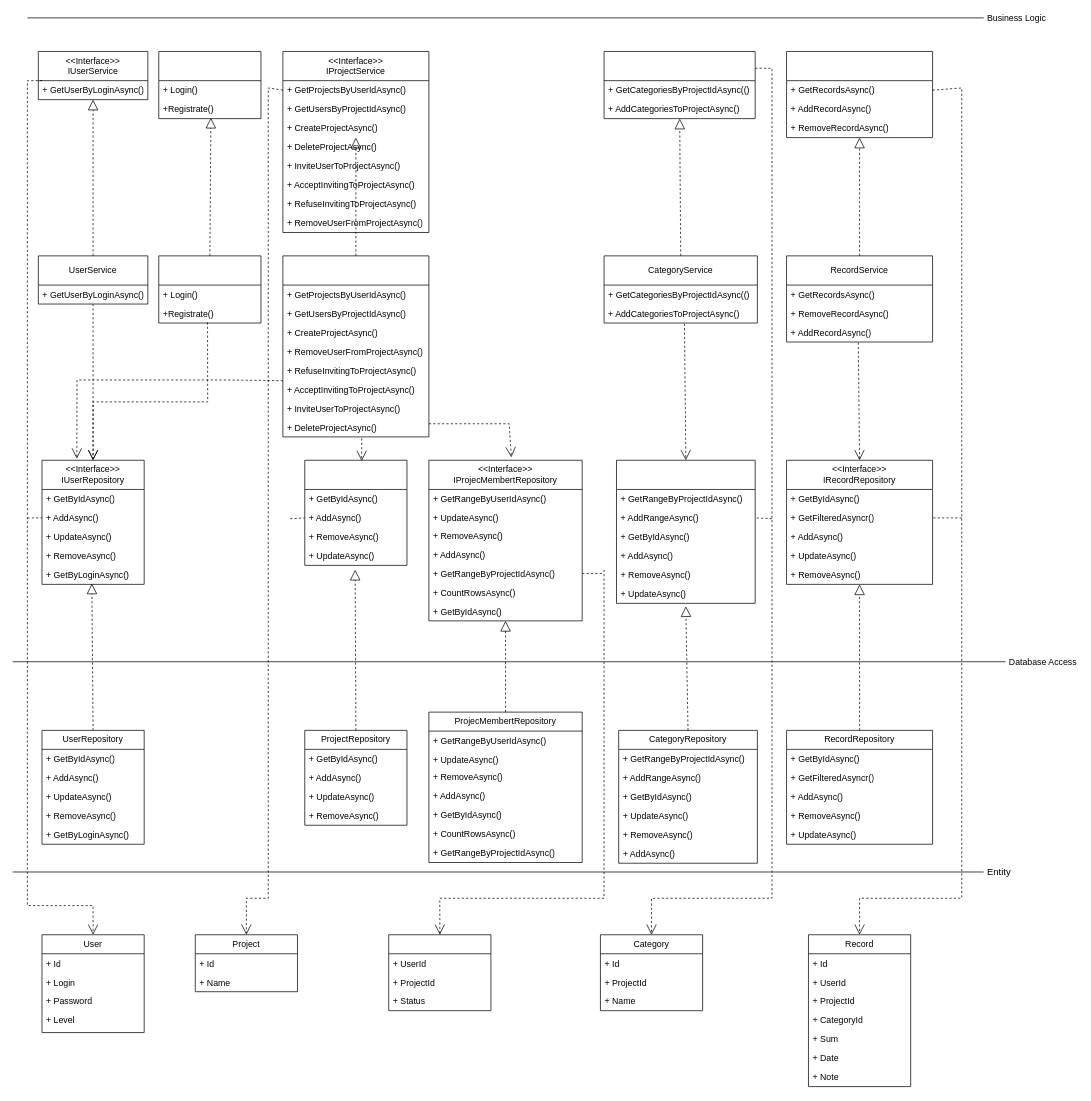
This 1091x1101 diagram has some shape labels left out. The box of each missing label's shape, as (x1, y1, x2, y2) in pixels:
<<Interface>> IAuthService: (158, 51, 261, 119)
<<Interface>> ICategoryRepository: (616, 460, 755, 603)
<<Interface>> ICategoryService: (603, 51, 755, 119)
<<Interface>> IProjectRepository: (304, 460, 407, 565)
<<Interface>> IRecordService: (786, 51, 933, 138)
AuthService: (158, 255, 261, 323)
ProjectMember: (388, 934, 491, 1011)
ProjectService: (282, 255, 429, 437)
